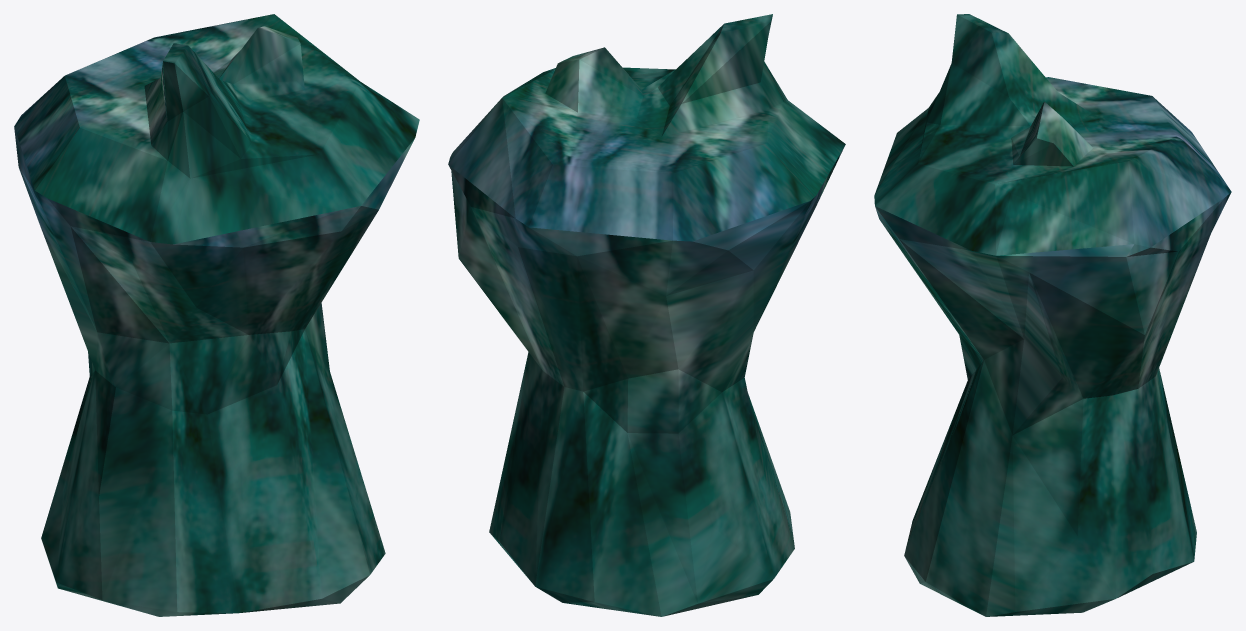
The model's file is ColdZone_SmallMount_1.gltf.
3 renders of one model, left to right at view 1: azimuth 30°, elevation 25°; view 2: azimuth 150°, elevation 25°; view 3: azimuth 270°, elevation 25°, orthographic. The views are drawn at different scales.
Visible parts, largest first — view 1: ColdZone_SmallMount_1; view 2: ColdZone_SmallMount_1; view 3: ColdZone_SmallMount_1.
Boxes of the visible parts, <box> form: ColdZone_SmallMount_1: <box>14,14,419,616</box>; ColdZone_SmallMount_1: <box>448,14,845,616</box>; ColdZone_SmallMount_1: <box>874,14,1231,616</box>.
Size of the model in its own units: 18.03 by 27.33 by 17.33.
Materials: 1 (1 with a texture image).
